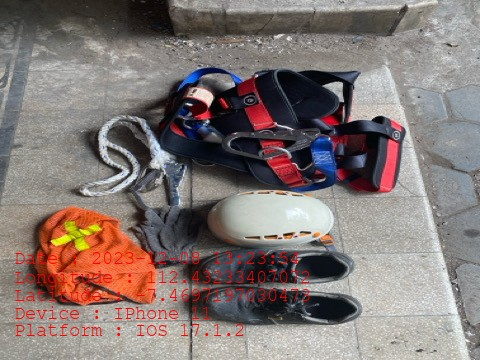HELM: (206, 189, 334, 246)
TAMBANG_SLING: (75, 114, 187, 209)
